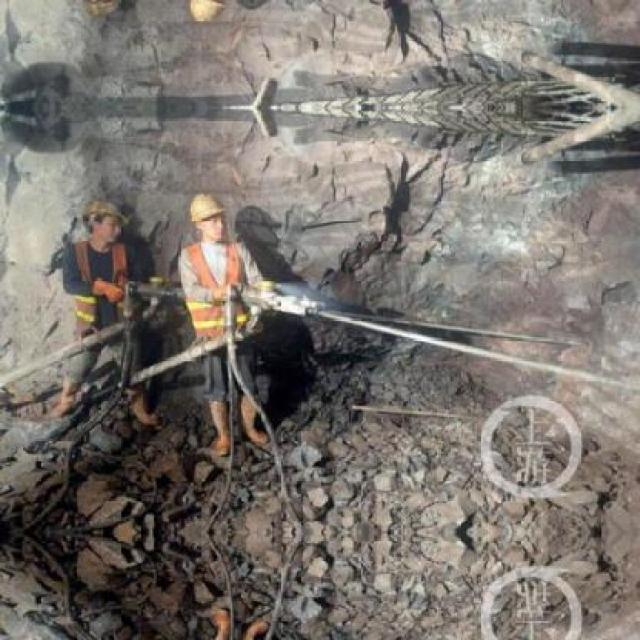helmet: (77, 192, 129, 246), (186, 189, 229, 242), (77, 0, 131, 22), (186, 0, 231, 25)
